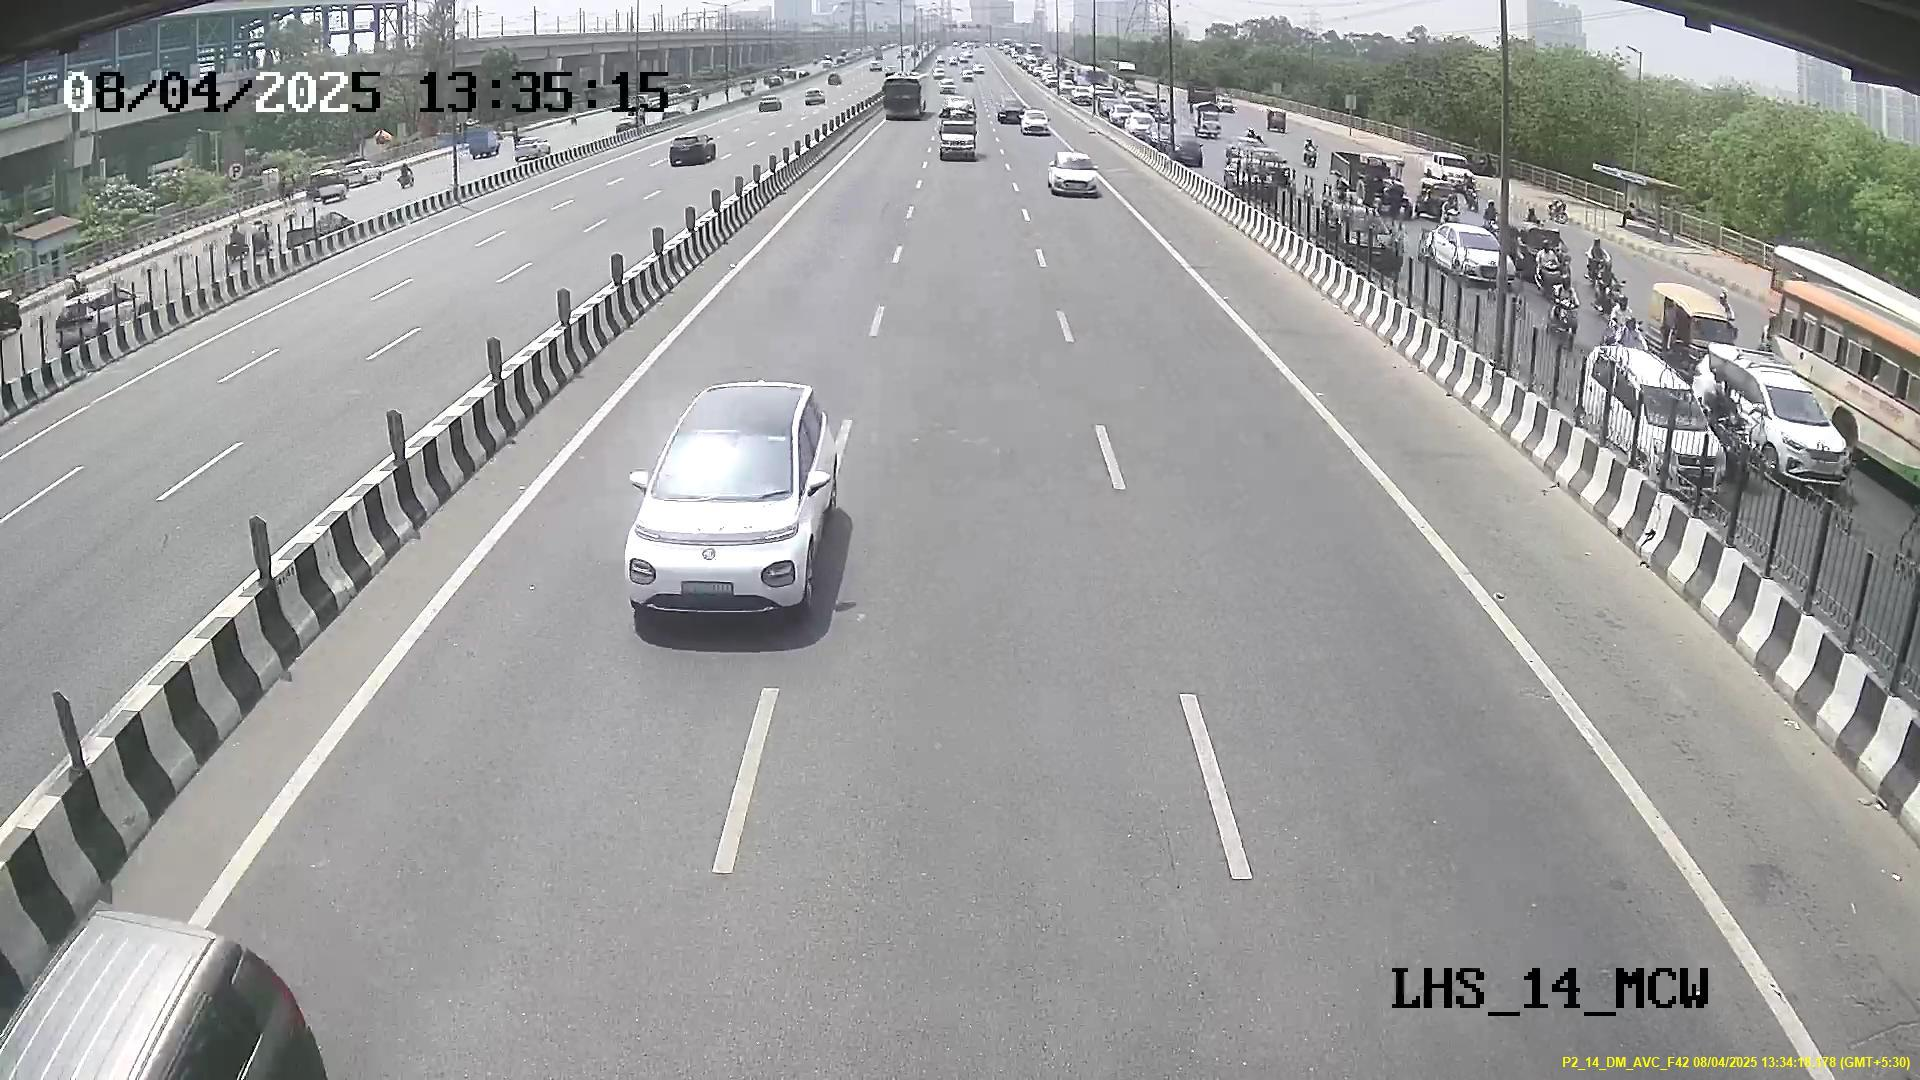car: (621, 413, 835, 624)
